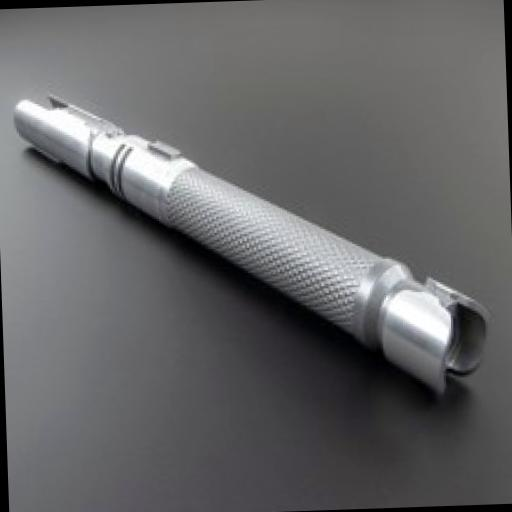lightsaber: (6, 72, 488, 406)
